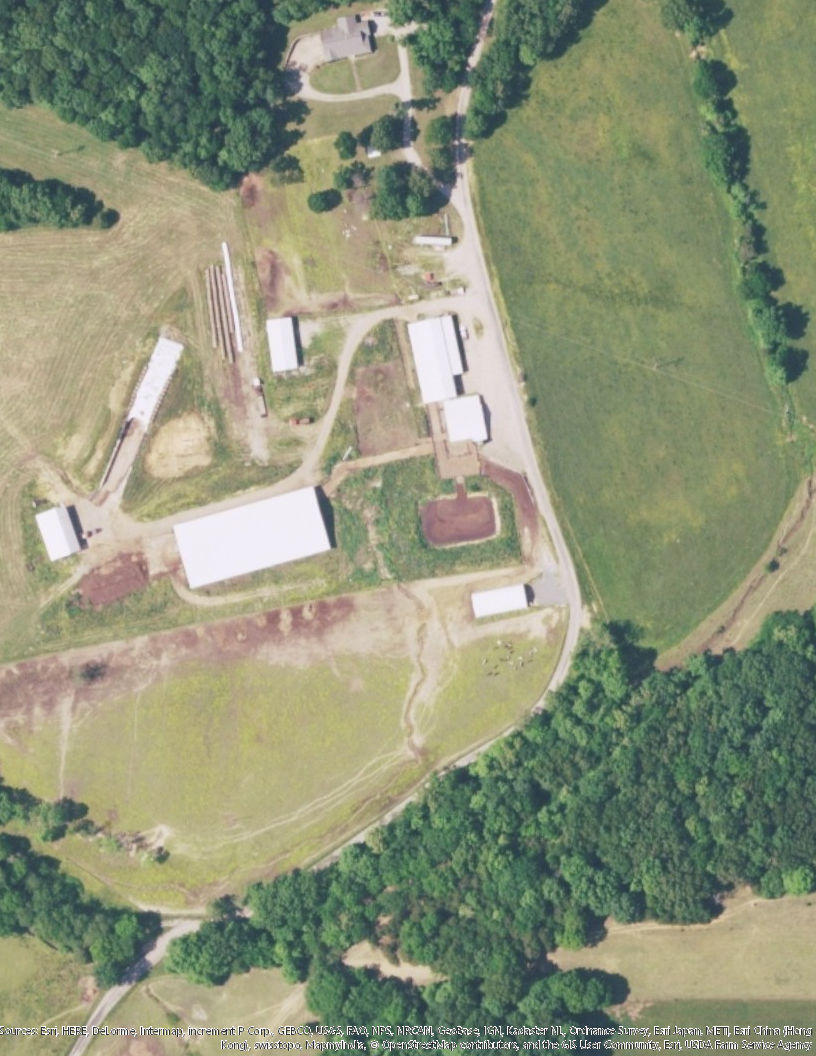cafo: (170, 482, 335, 596), (407, 312, 494, 450), (266, 314, 305, 374), (467, 585, 539, 613)
